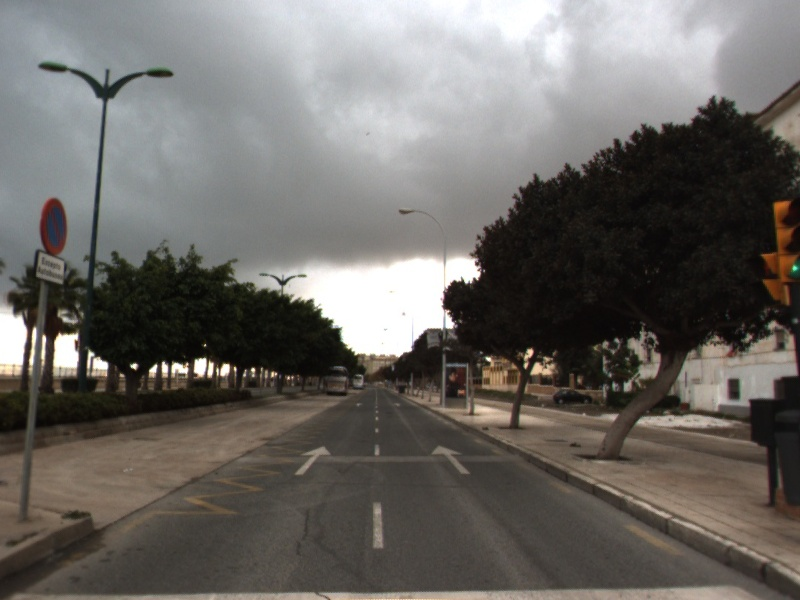STRAIGHT: (292, 443, 334, 477), (430, 443, 473, 476)
